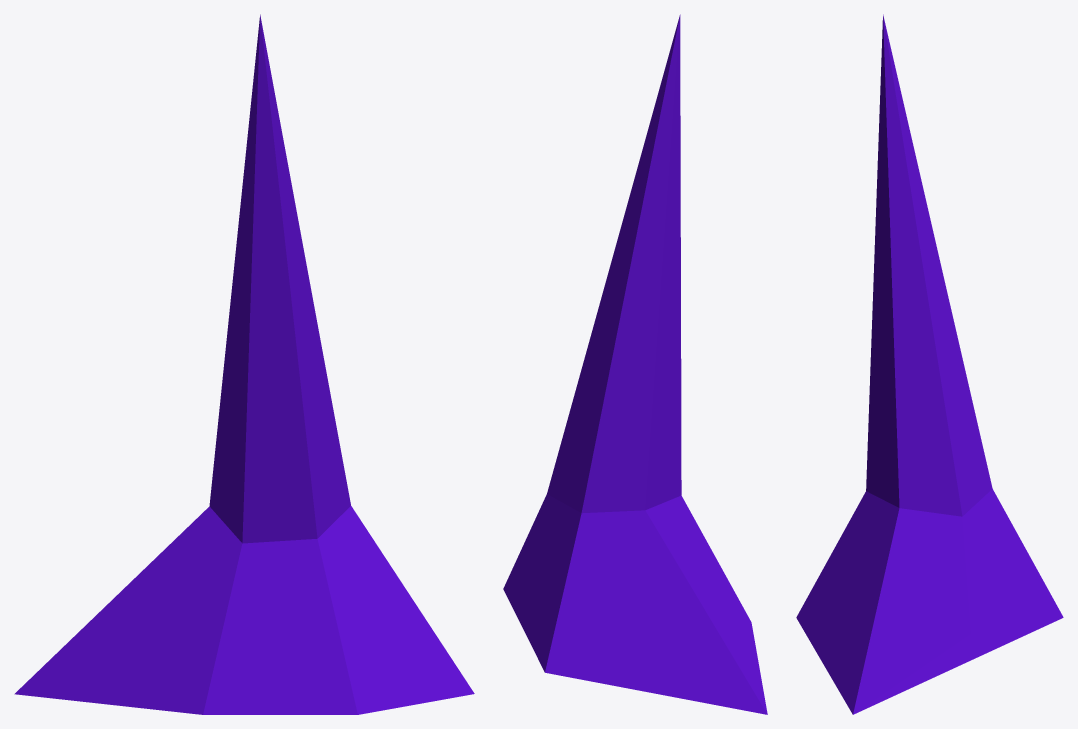
Rendered from BasicLong.fbx.
3 renders of one model, left to right at view 1: azimuth 30°, elevation 25°; view 2: azimuth 150°, elevation 25°; view 3: azimuth 270°, elevation 25°, orthographic. The views are drawn at different scales.
Parts seen in each view (by area): view 1: Cone; view 2: Cone; view 3: Cone.
Boxes of the visible parts, left/top/right/bottom form: Cone: left=14, top=14, right=474, bottom=714; Cone: left=503, top=14, right=767, bottom=714; Cone: left=796, top=14, right=1063, bottom=714.
Size of the model in its own units: 275 by 510 by 200.
